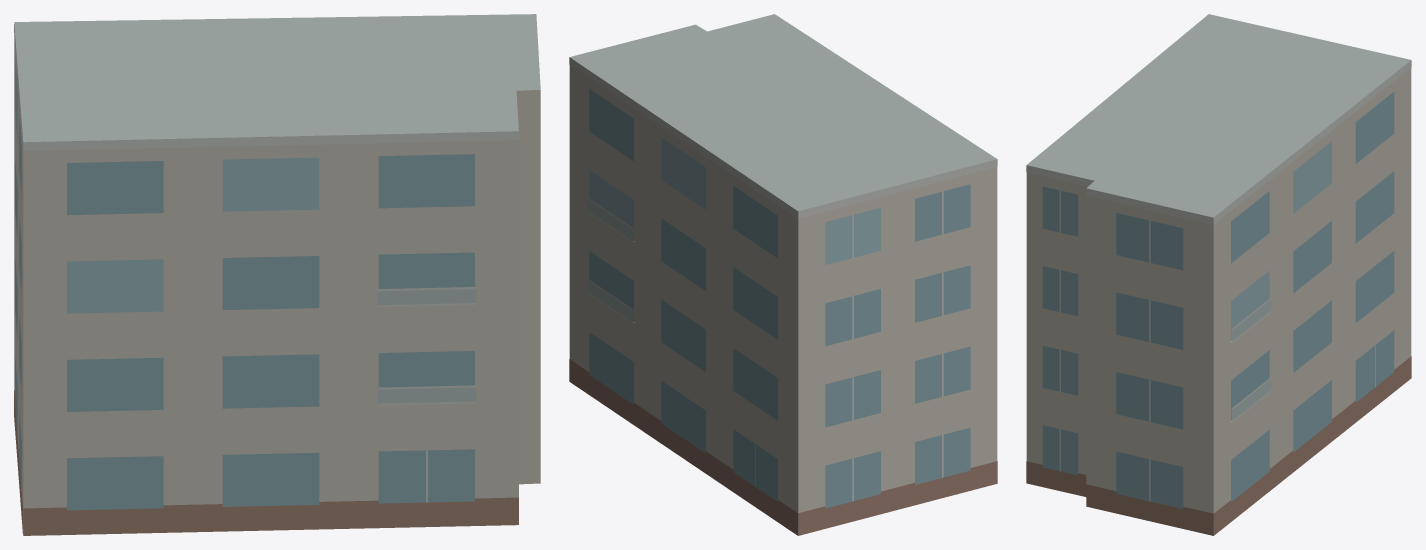
File: survey-upis-33010844.glb
The picture shows the model from 3 angles, left to right: view 1: azimuth 30°, elevation 25°; view 2: azimuth 150°, elevation 25°; view 3: azimuth 270°, elevation 25°; orthographic projection. The views are drawn at different scales.
Visible parts, largest first — view 1: survey-upis-33010844.tmp; view 2: survey-upis-33010844.tmp; view 3: survey-upis-33010844.tmp.
Part boxes in pixels (x1,y1,x2,y2): survey-upis-33010844.tmp: [14, 14, 540, 535]; survey-upis-33010844.tmp: [569, 14, 997, 535]; survey-upis-33010844.tmp: [1026, 14, 1411, 535].
Bounding box in the file's own units: 14.69 × 10.7 × 11.74.
